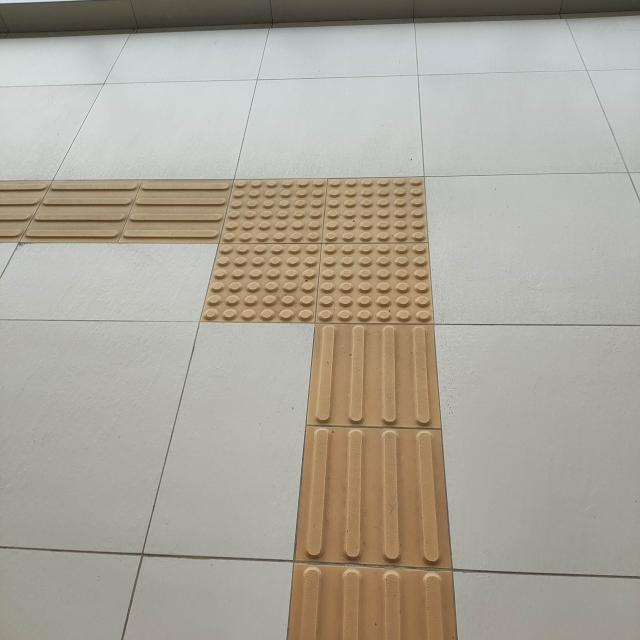kiri: (0, 139, 518, 366)
